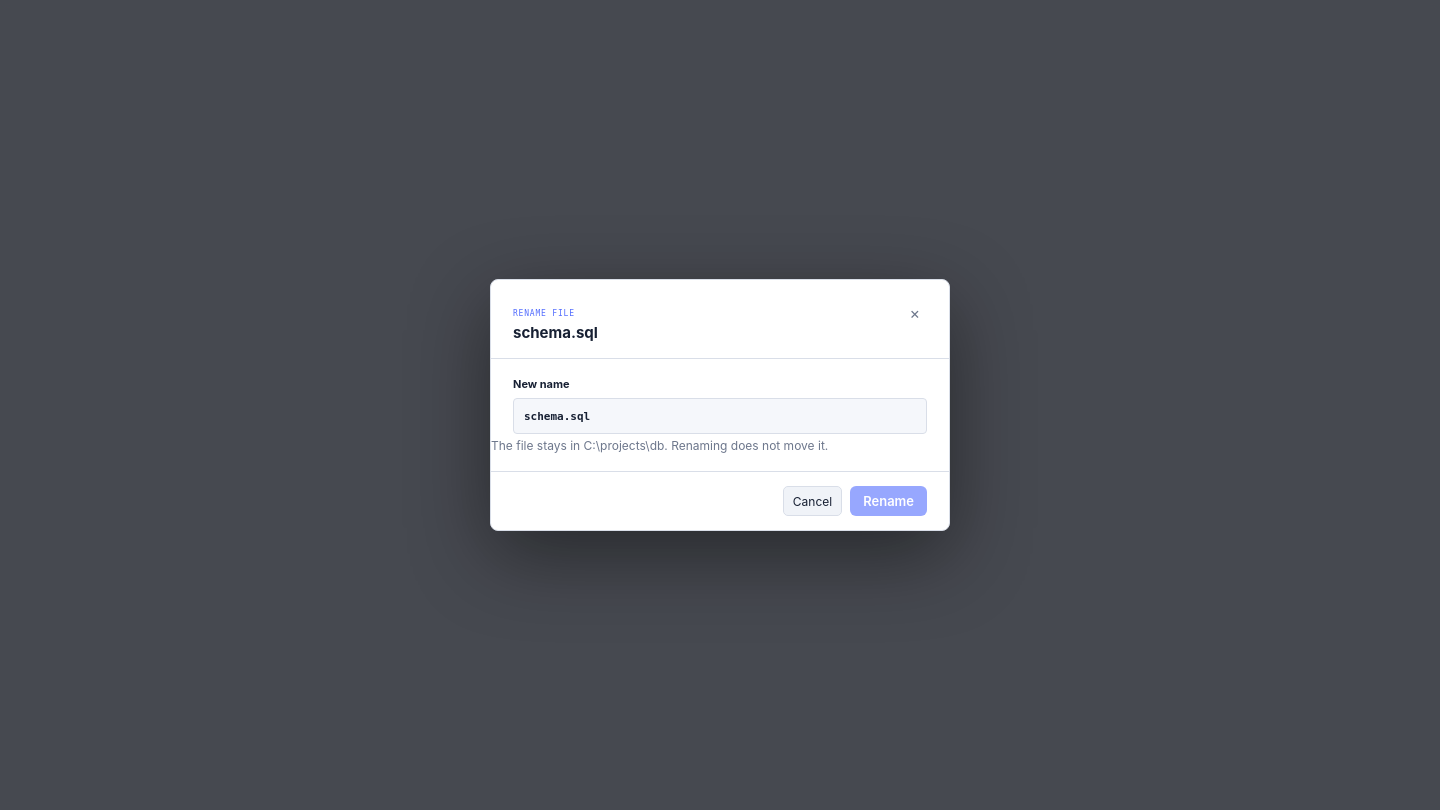
Test case: rename dialog › shows the failure and stays open when the name is taken
Replace the text in the field labelled "New name" with "tables.sql" at {"x": 720, "y": 416}, box x1=513 y1=398 x2=927 y2=434
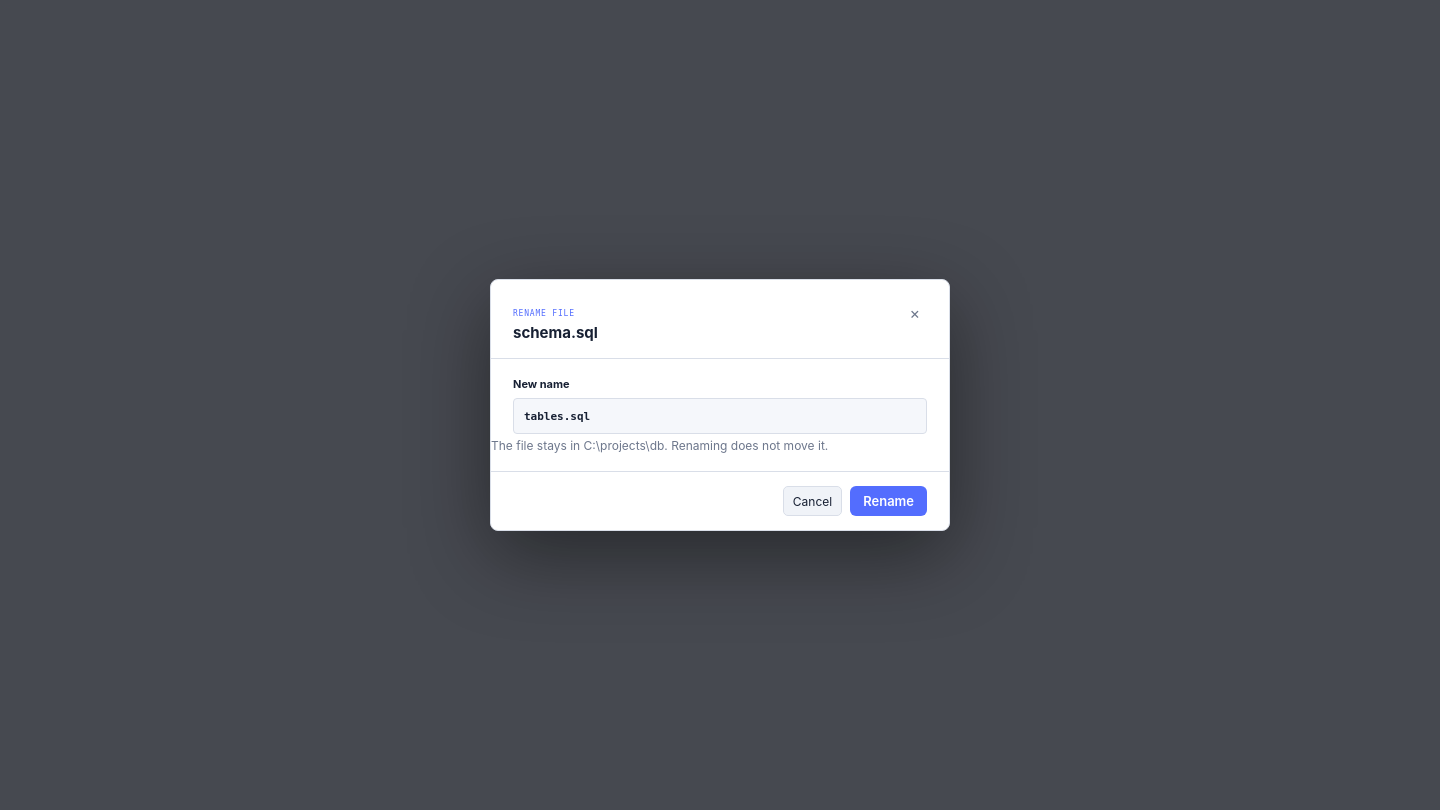
Click the button "Rename" at {"x": 889, "y": 501}, box x1=850 y1=486 x2=927 y2=516
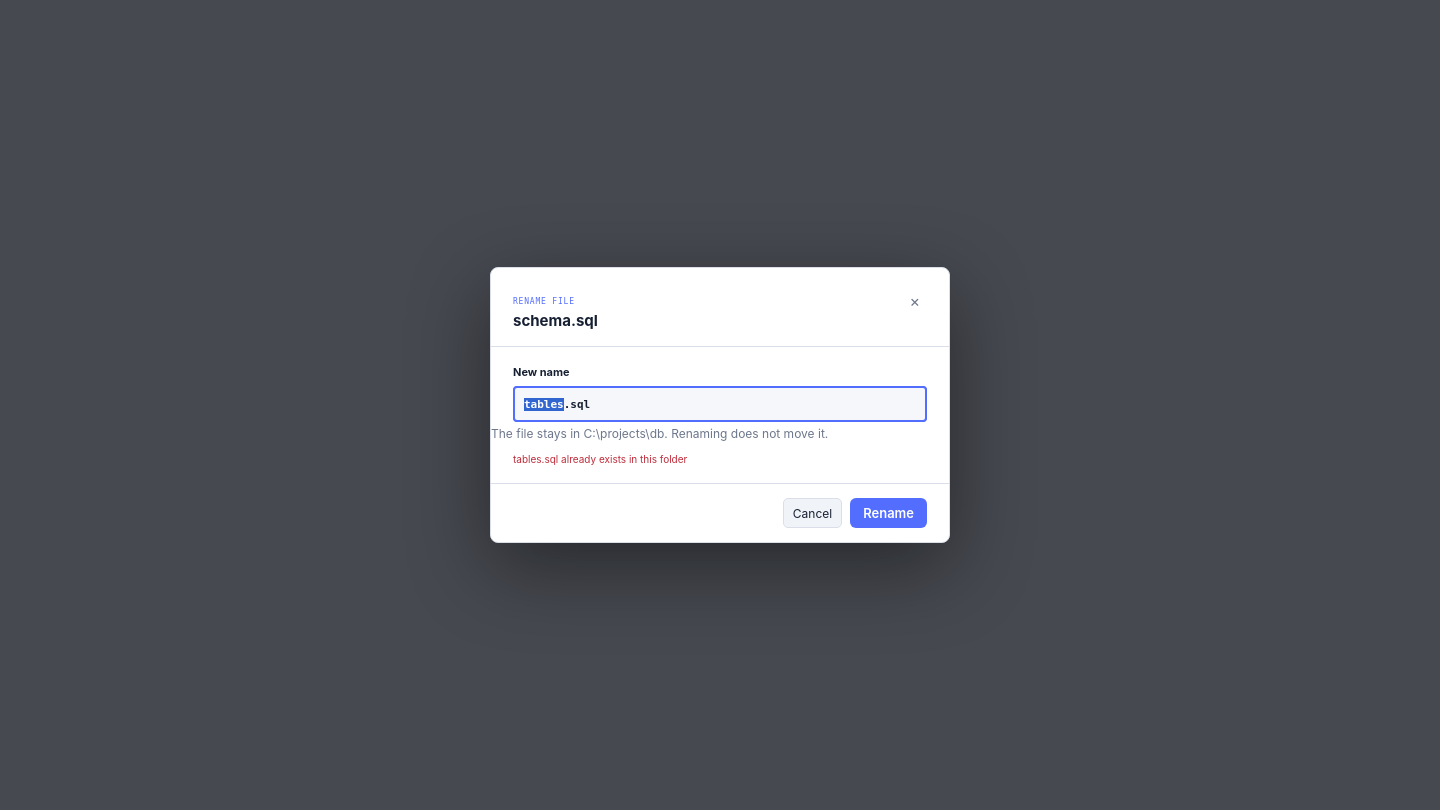
Check: the heading "schema.sql" is shown, box x1=513 y1=311 x2=598 y2=330
Check: the text "tables.sql already exists in this folder" is shown, box x1=513 y1=453 x2=687 y2=465
